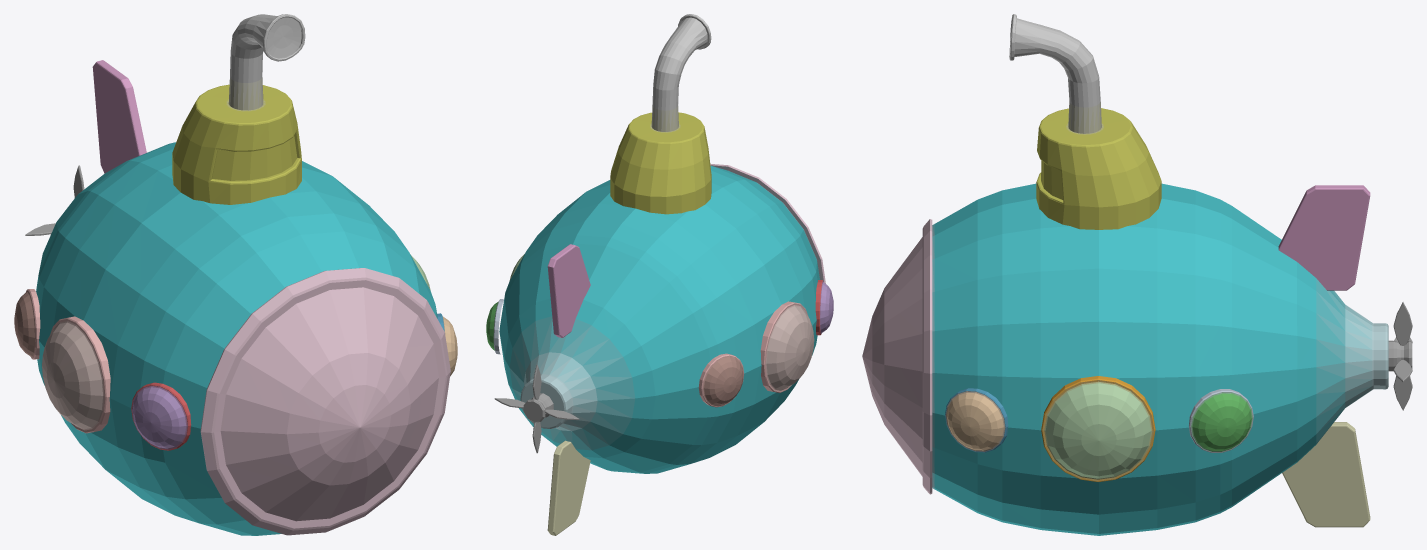
3 renders of one model, left to right at view 1: azimuth 30°, elevation 25°; view 2: azimuth 150°, elevation 25°; view 3: azimuth 270°, elevation 25°, orthographic. The views are drawn at different scales.
Parts seen in each view (by area): view 1: world; view 2: world; view 3: world.
Part boxes in pixels (box(x1,y1,x2,y2)): world: box(14, 14, 457, 535); world: box(486, 14, 833, 535); world: box(862, 14, 1412, 535).
Bounding box in the file's own units: 1.3 × 1.8 × 1.76.
